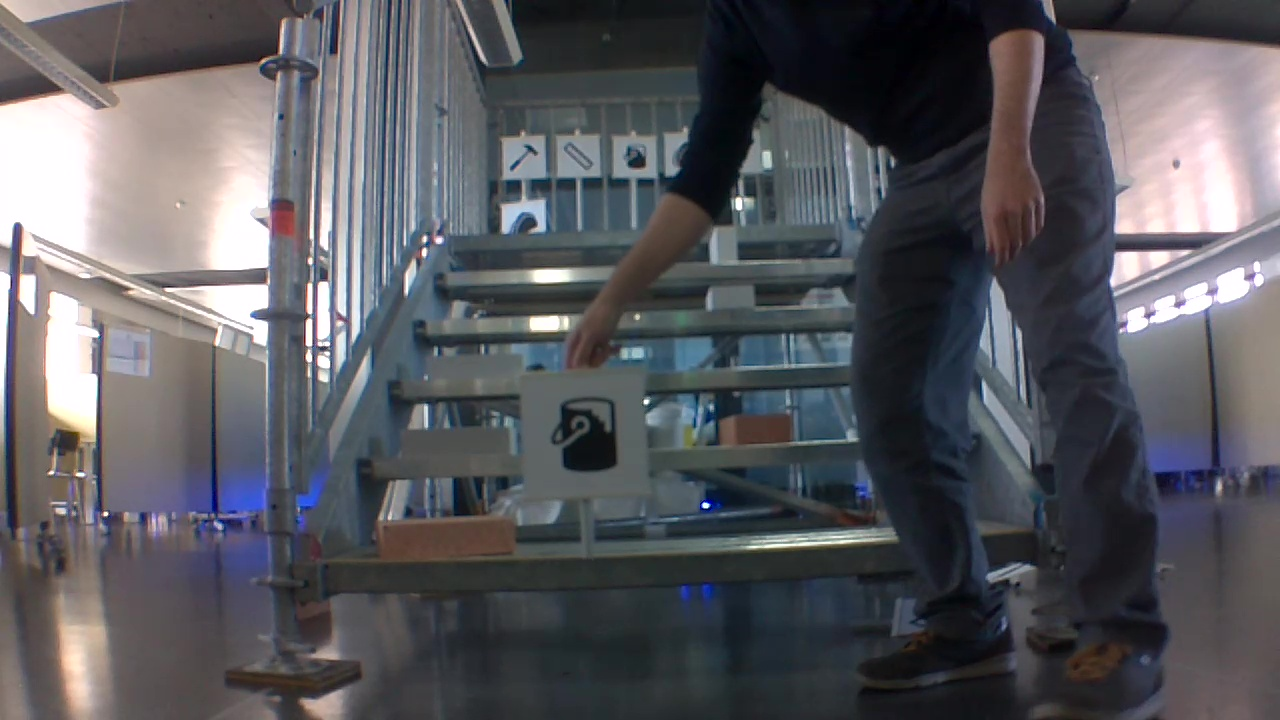brick: (380, 517, 513, 559), (408, 426, 512, 456), (431, 352, 524, 379), (721, 414, 792, 445), (709, 286, 752, 310), (711, 227, 735, 262)
bucket: (543, 387, 621, 476), (617, 141, 649, 173)
edge: (329, 531, 1038, 592)
hammer: (504, 139, 541, 174)
ruler: (558, 139, 596, 171)
taco: (507, 209, 538, 233)
